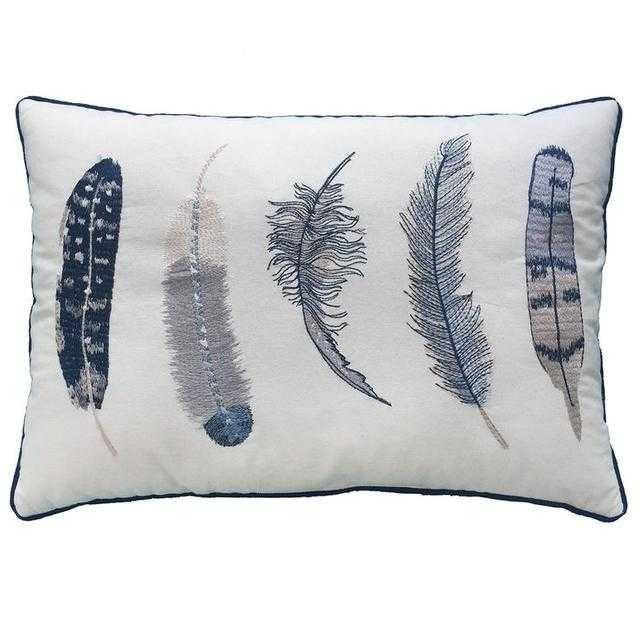pillow: (8, 92, 628, 524)
